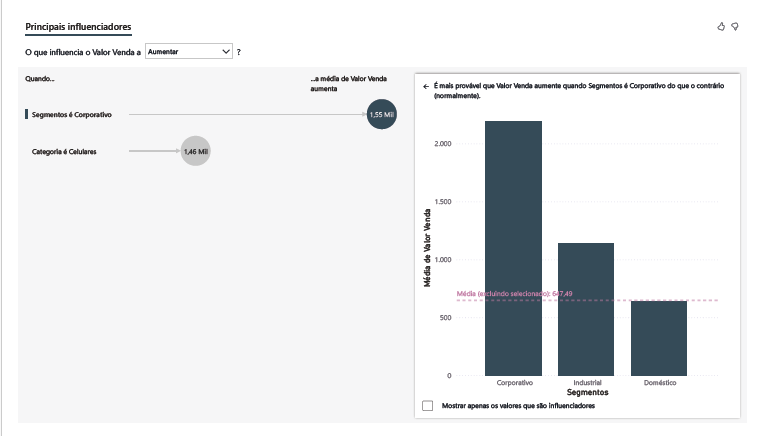

This screenshot's page, from the dashboard's own definition file:
{"tool":"powerbi","page":{"name":"Principais Influenciadores de Vendas","canvas":[1280,720],"ordinal":2},"visuals":[{"type":"keyDriversVisual","fields":{"Target":["DadosComerciais.Valor Venda"],"ExplainBy":["DadosComerciais.Categoria","DadosComerciais.Segmentos"]},"box":[0,0,1280,720],"z":0}]}

Visuals, with their boxes in screenshot pixels (x1, y1, x2, y2), scaled from the page's 1280x720 canvas onto the 762x436 screenshot:
keyDriversVisual - DadosComerciais.Valor Venda x DadosComerciais.Categoria: 0,0,761,435
